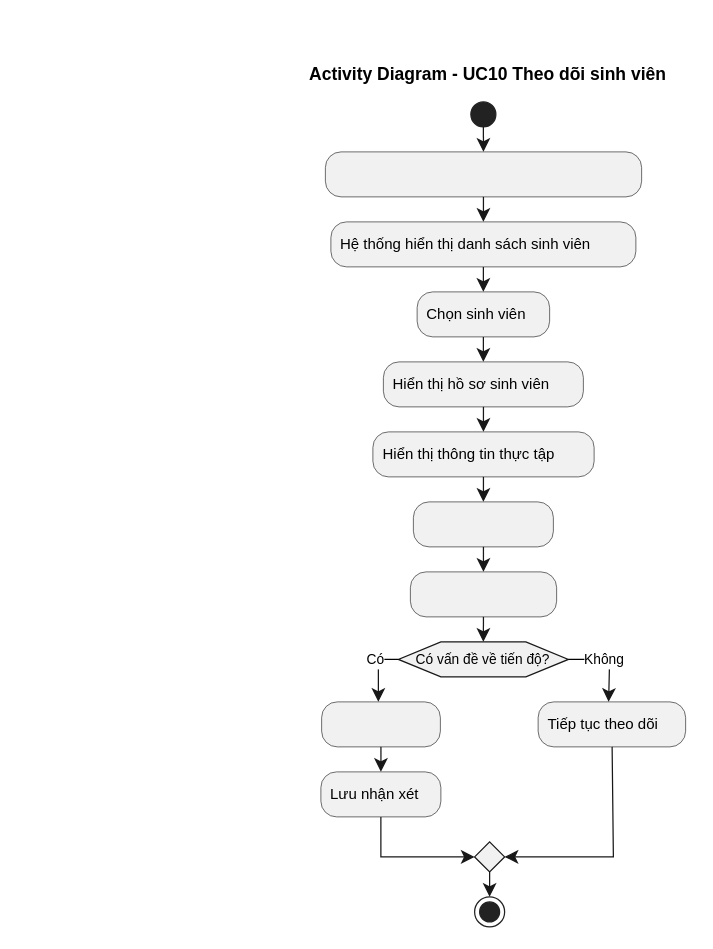
The diagram is 713 pixels wide and 949 high, and some of its shapes have lost their labels. The box of each missing label's shape, as (x1, y1, x2, y2) in pixels:
Doanh nghiệp chọn "Theo dõi sinh viên": (324, 151, 641, 197)
Ghi nhận xét: (321, 701, 440, 747)
Hiển thị nhật ký: (410, 571, 556, 617)
Hiển thị tiến độ: (412, 501, 553, 547)
